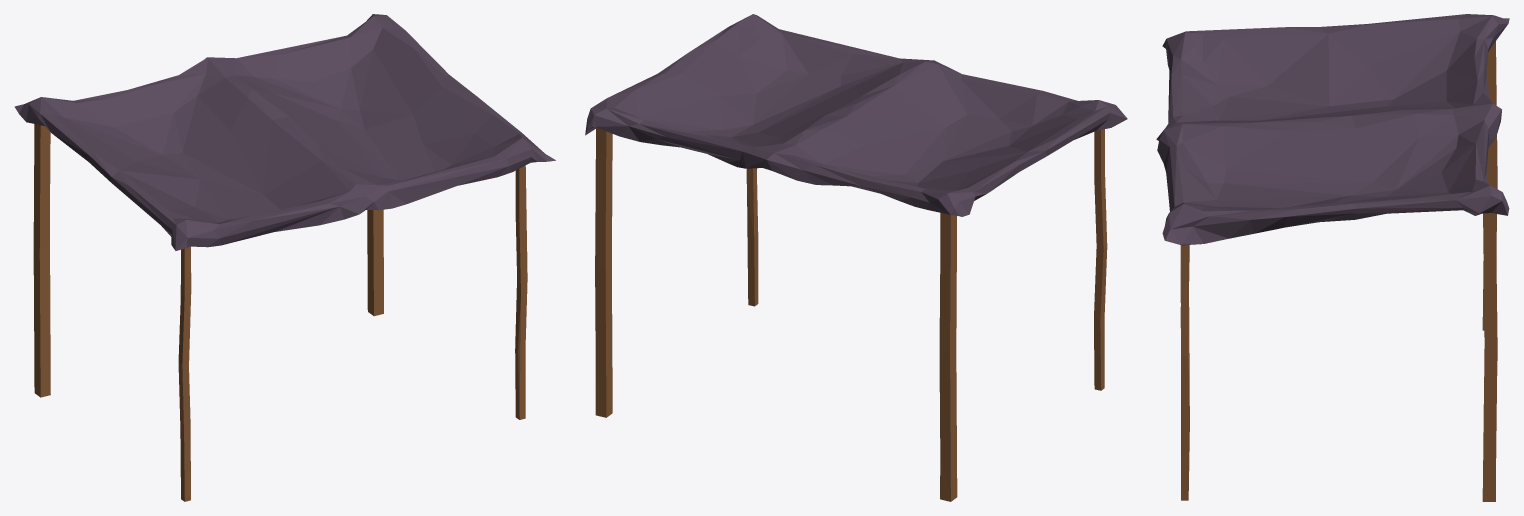
Rendered from Market_Roof_03.fbx.
3 views of the same model, side by side, from view 1: azimuth 30°, elevation 25°; view 2: azimuth 150°, elevation 25°; view 3: azimuth 270°, elevation 25° (orthographic). The views are drawn at different scales.
Parts seen in each view (by area): view 1: Market_Roof_03; view 2: Market_Roof_03; view 3: Market_Roof_03.
Part boxes in pixels (x1,y1,x2,y2): Market_Roof_03: (14,14,555,501); Market_Roof_03: (585,14,1127,501); Market_Roof_03: (1156,14,1509,501).
Size of the model in its own units: 272 by 203 by 208.
